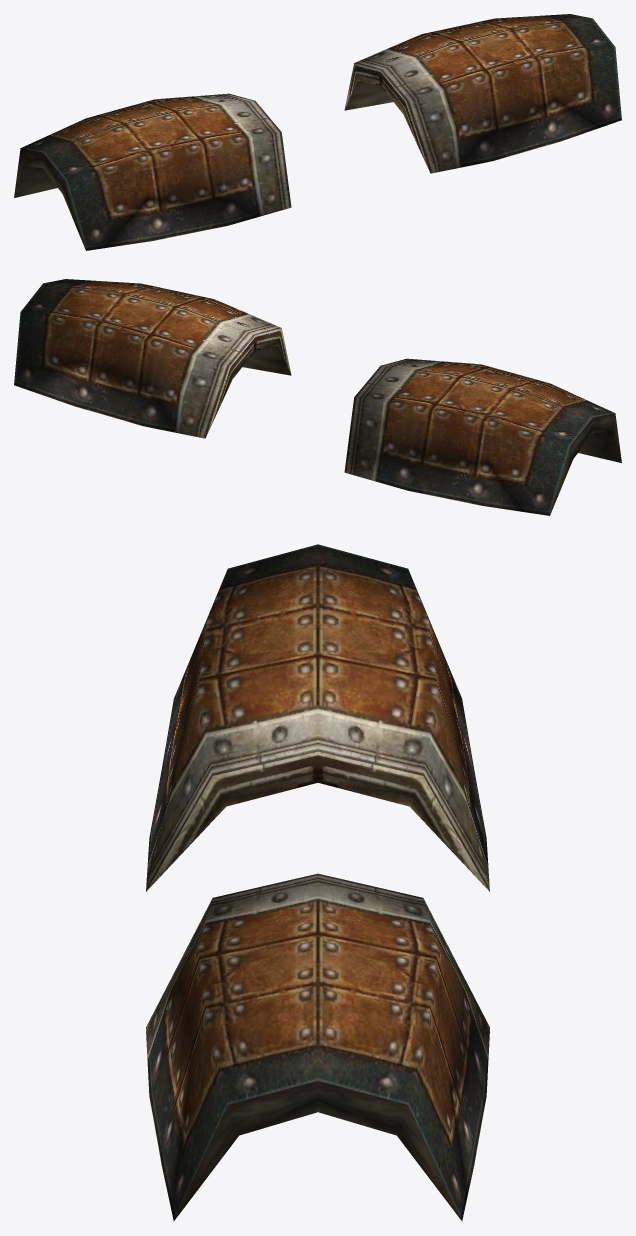
File: heavy_01_sa.glb
3 views of the same model, one above another, from view 1: azimuth 30°, elevation 25°; view 2: azimuth 150°, elevation 25°; view 3: azimuth 270°, elevation 25° (orthographic). The views are drawn at different scales.
Visible parts, largest first — view 1: heavy_01_sa; view 2: heavy_01_sa; view 3: heavy_01_sa.
Boxes of the visible parts, <box> form: heavy_01_sa: <box>14,14,621,250</box>; heavy_01_sa: <box>14,279,621,515</box>; heavy_01_sa: <box>146,544,489,1221</box>.
Bounding box in the file's own units: 0.6736 × 0.101 × 0.1826.
1 material, 1 textured.
